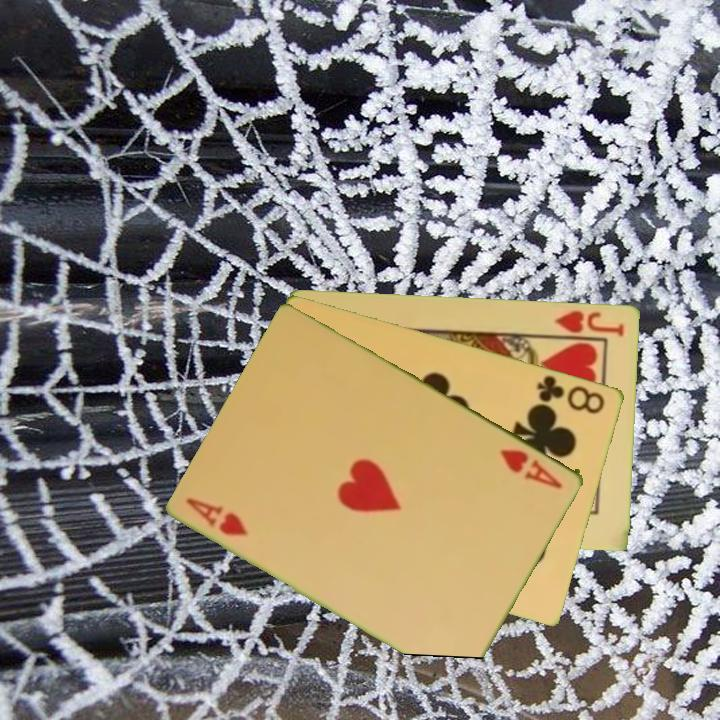8c: (534, 371, 609, 417)
Ah: (497, 445, 566, 492), (183, 493, 252, 539)
Jh: (545, 306, 628, 341)
